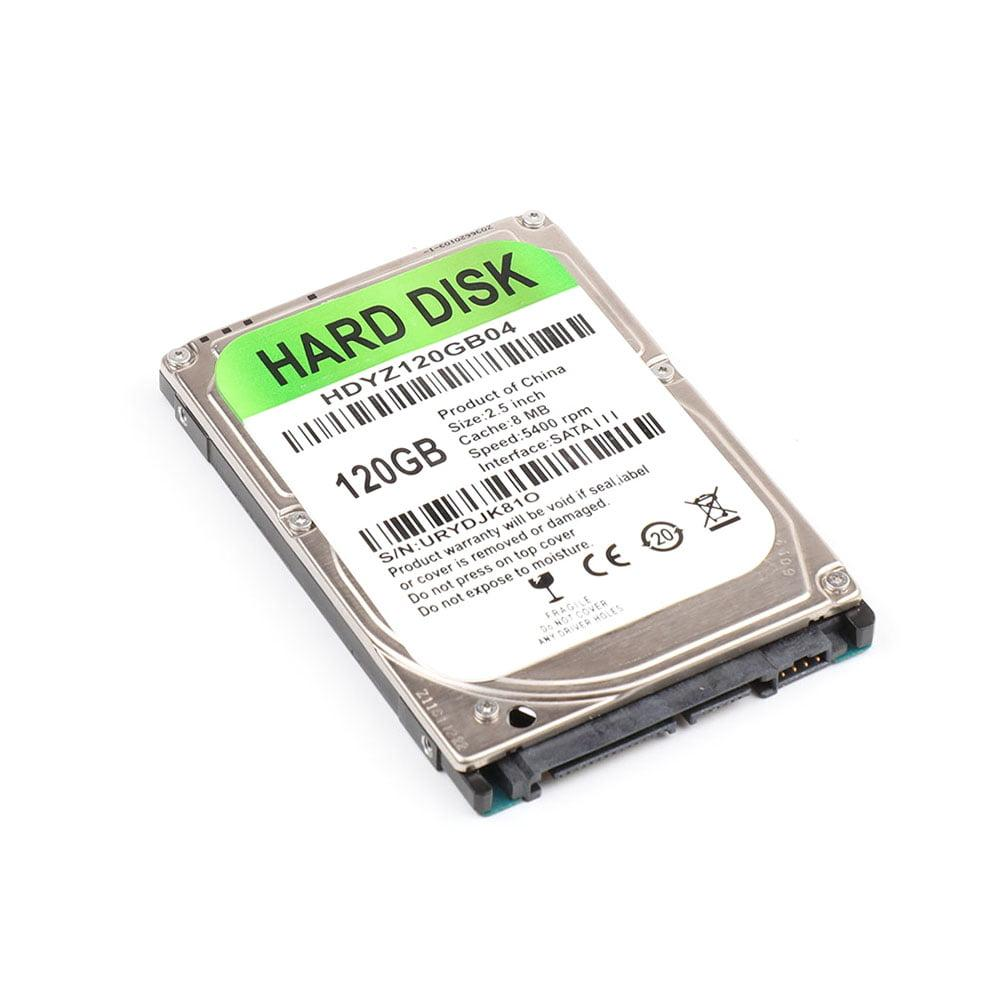internal HDD: (158, 211, 877, 818)
